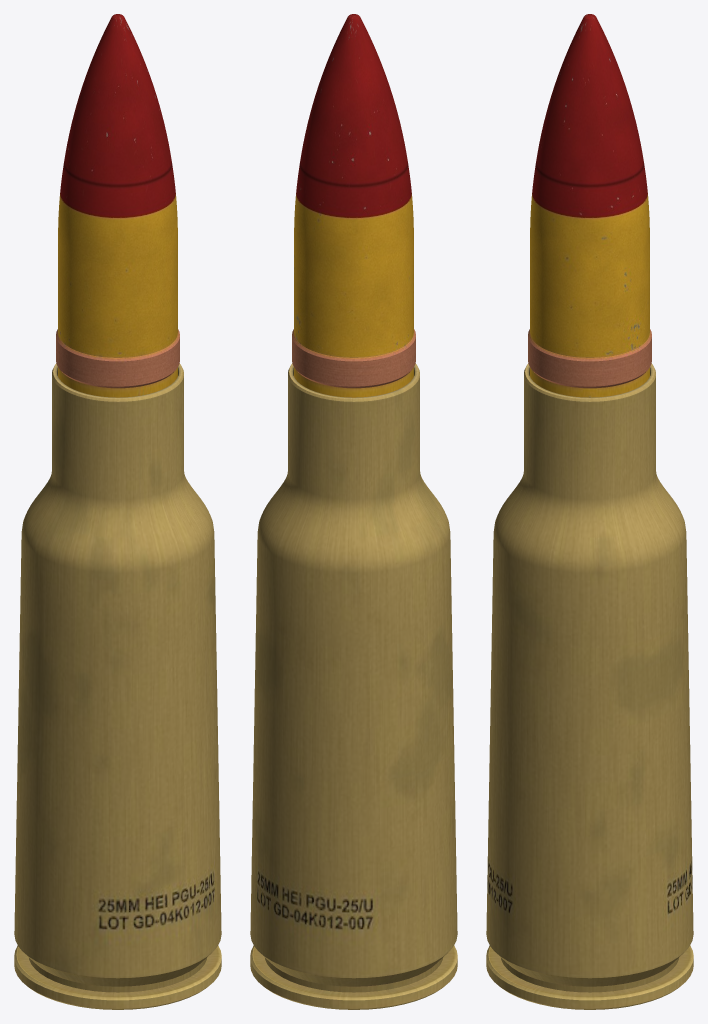
The picture shows the model from 3 angles, left to right: view 1: azimuth 30°, elevation 25°; view 2: azimuth 150°, elevation 25°; view 3: azimuth 270°, elevation 25°; orthographic projection.
Visible parts, largest first — view 1: Capsula_25mm, Projetil_25mm; view 2: Capsula_25mm, Projetil_25mm; view 3: Capsula_25mm, Projetil_25mm.
Boxes of the visible parts, left/top/right/bottom form: Capsula_25mm: left=14, top=363, right=221, bottom=1009; Projetil_25mm: left=56, top=14, right=179, bottom=397; Capsula_25mm: left=250, top=363, right=457, bottom=1009; Projetil_25mm: left=292, top=14, right=415, bottom=397; Capsula_25mm: left=486, top=363, right=693, bottom=1009; Projetil_25mm: left=528, top=14, right=651, bottom=397.
Size of the model in its own units: 0.0433 by 0.219 by 0.0433.
2 materials, 2 textured.
